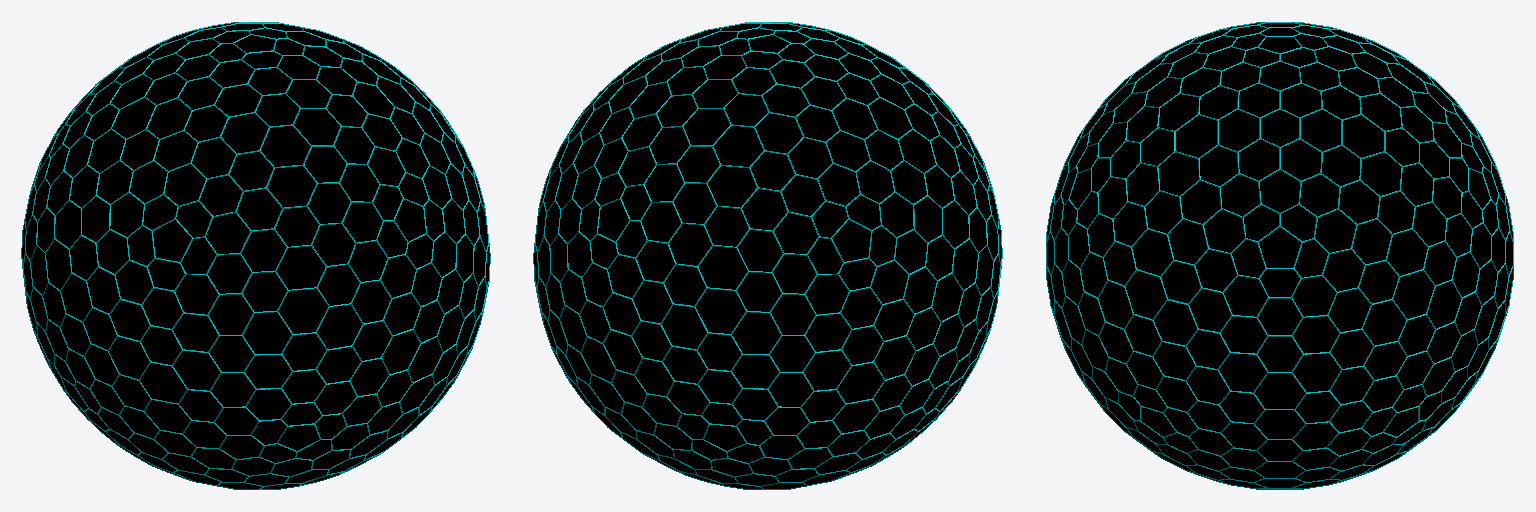
The model's file is hexagon_ball.obj.
The picture shows the model from 3 angles: view 1: azimuth 30°, elevation 25°; view 2: azimuth 150°, elevation 25°; view 3: azimuth 270°, elevation 25°; orthographic projection.
Visible parts, largest first — view 1: Sphere, Frame; view 2: Sphere, Frame; view 3: Sphere, Frame.
Boxes of the visible parts, box(x1,y1,x2,y2) form: Sphere: box(22, 23, 489, 488); Frame: box(21, 22, 490, 489); Sphere: box(534, 23, 1001, 488); Frame: box(533, 22, 1002, 489); Sphere: box(1047, 23, 1512, 488); Frame: box(1046, 22, 1513, 489).
Bounding box in the file's own units: 1.98 × 1.98 × 1.98.